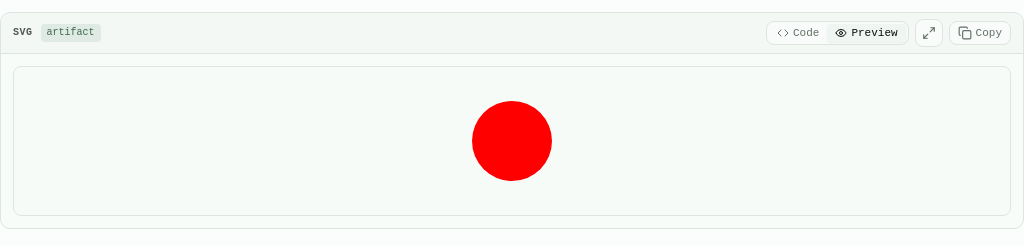
Scenario: CodeBlock › renders previewable svg block with preview and code tabs
The width and height of the screenshot is (1024, 246).
Check: the text "svg" is shown, box [13,26,32,40]
Check: the text "artifact" is shown, box [40,24,100,42]
Switch to Code tab
Click the button with aria-label "View code": (798, 33) [769,24,827,42]
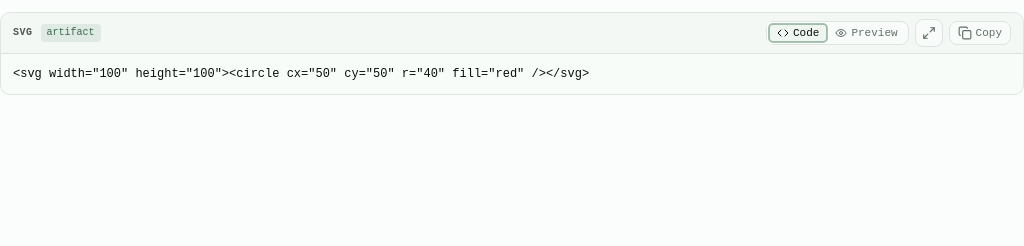
Check: the text "<svg width=\"100\" height=\"100\"><circle cx=\"50\" cy=\"50\" r=\"40\" fill=\"red\" /></svg>" is shown, box [13,67,589,81]
Switch back to Preview tab
Click the button "View preview": (866, 33) [827,24,906,42]
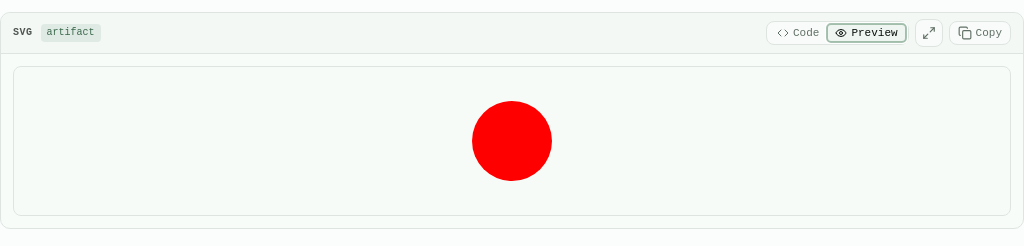
Check: the element with test id "svg-preview" is shown, box [13,66,1011,216]
